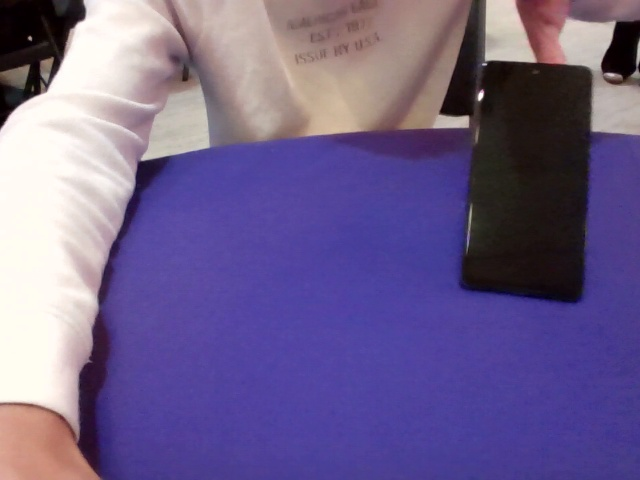celular: (460, 60, 592, 296)
